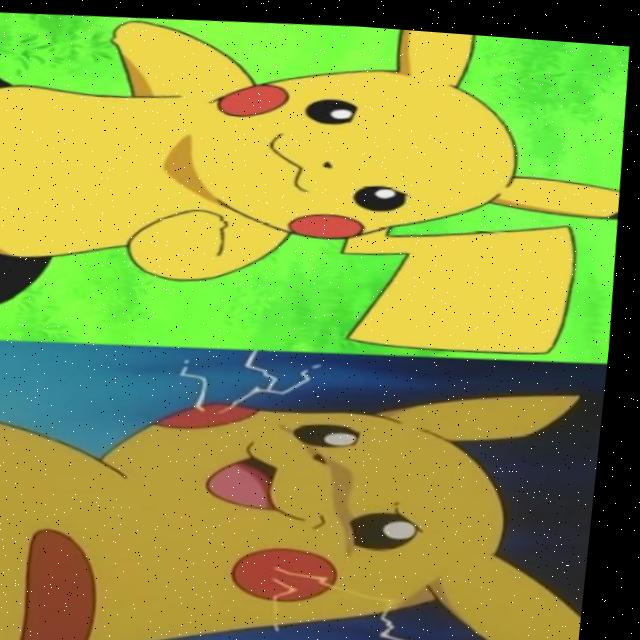Pikachu: (0, 0, 608, 358), (0, 314, 614, 640)
